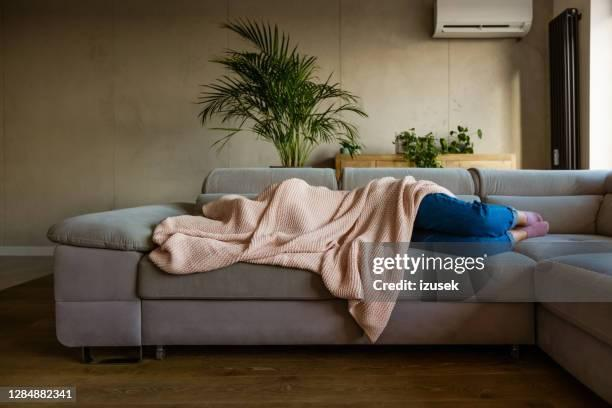blanket: (147, 176, 456, 345)
trousers: (408, 192, 518, 258)
